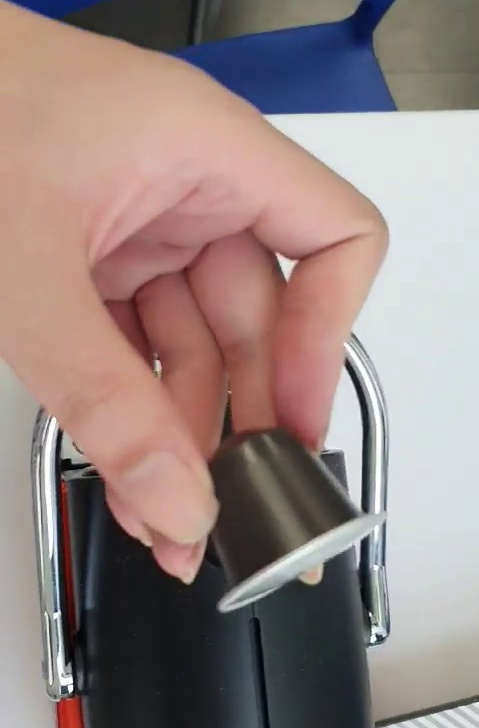capsule_4: (193, 423, 392, 615)
